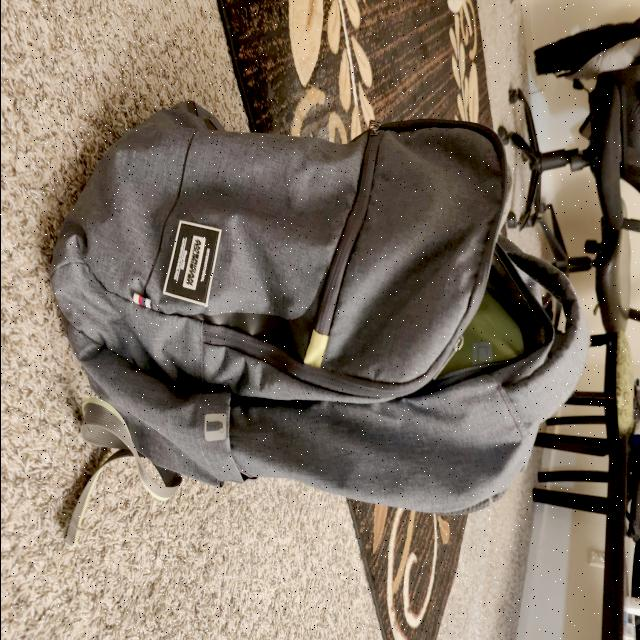bag: (39, 130, 596, 500)
